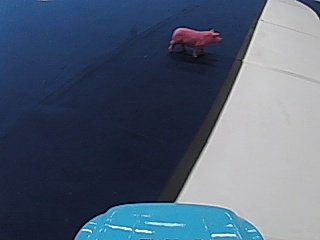pig: (166, 23, 222, 58)
